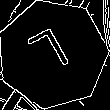L_SE: (27, 25, 79, 84)
